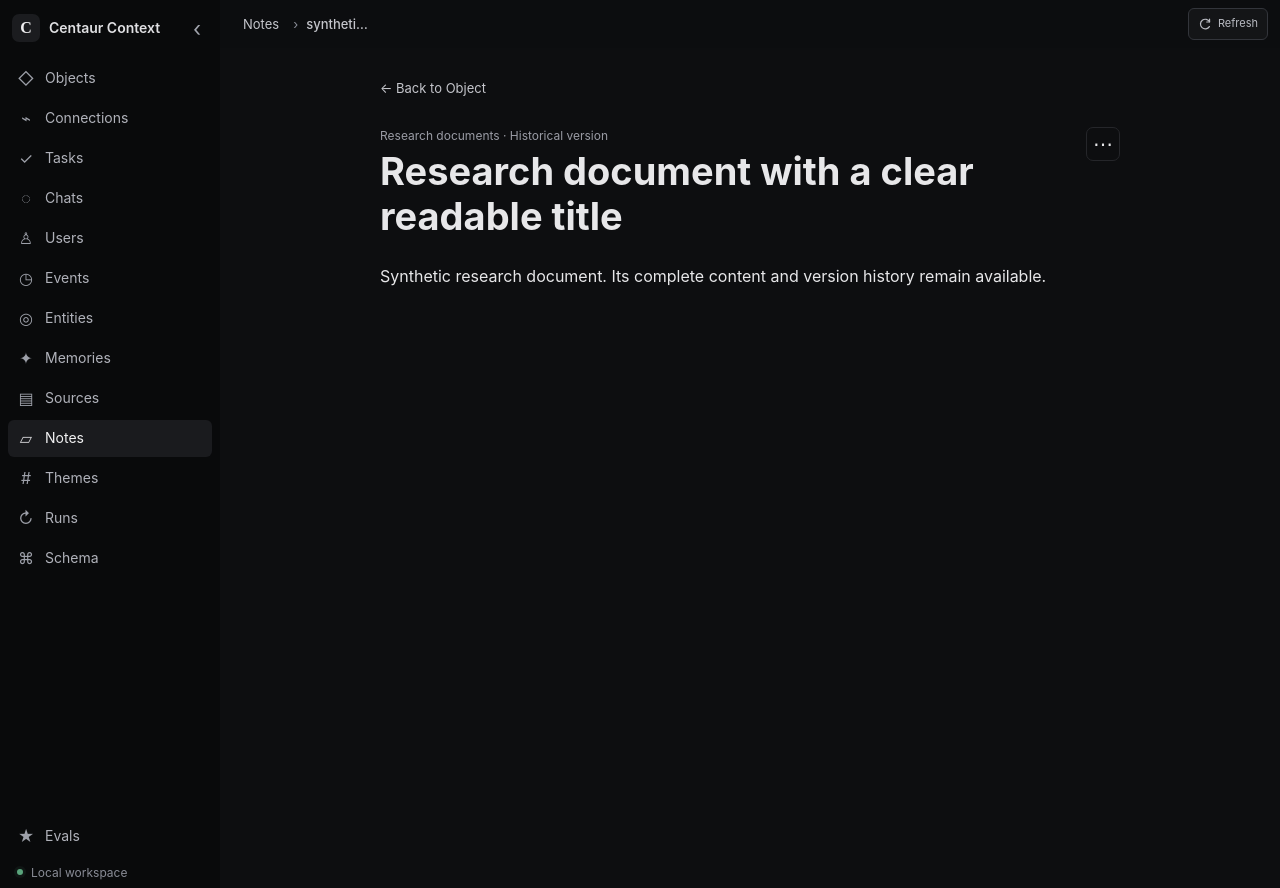
Scenario: complete Object detail routing › preserves the nested artifacts/synthetic-note-artifact-1 destination
Expected: the text "Synthetic research document. Its complete content and version history remain available." is shown, [380,266,1046,286]
Step 1. Click the link "← Back to Object" → x=433, y=88, box [380,80,486,96]
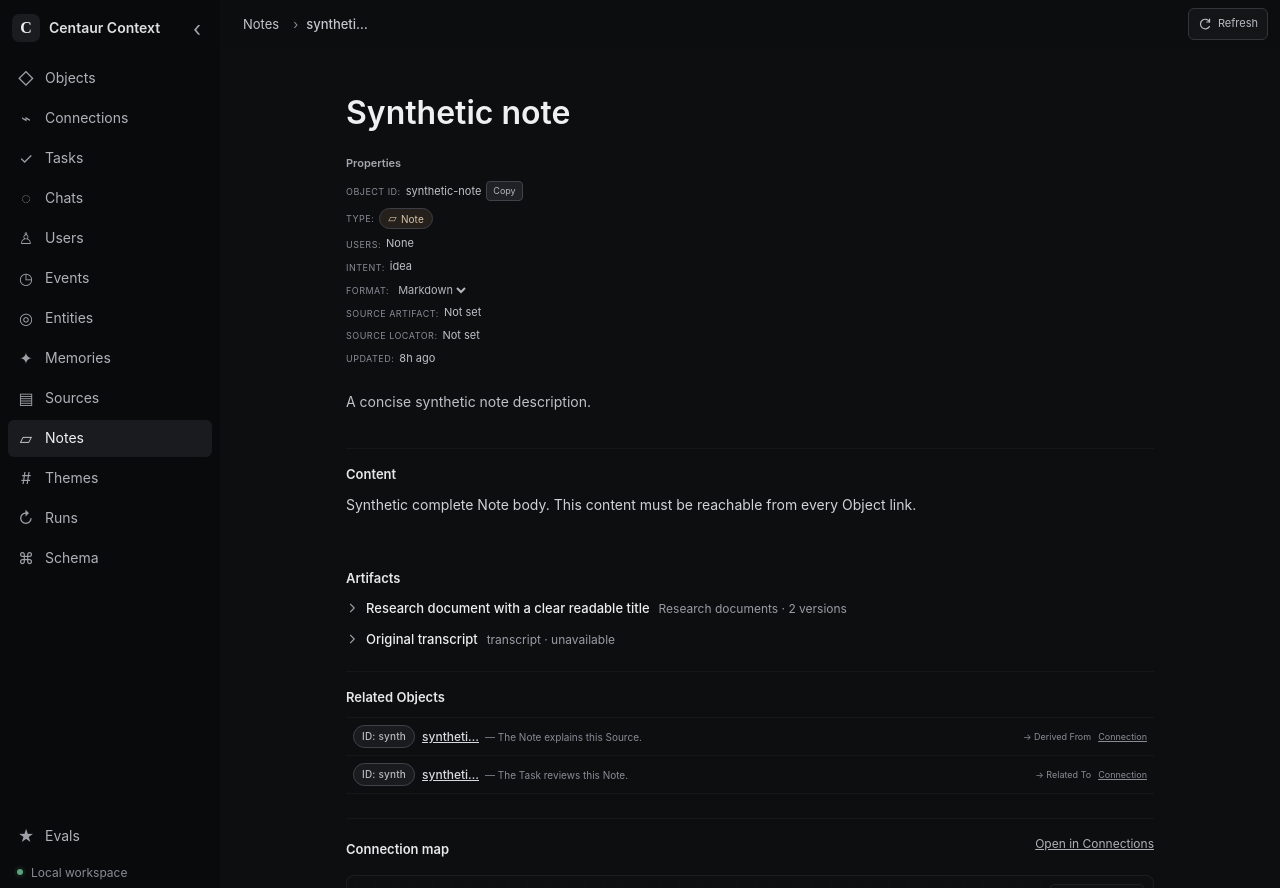
Now the text "Synthetic complete Note body. This content must be reachable from every Object link." is shown, box [346,496,916,513]
